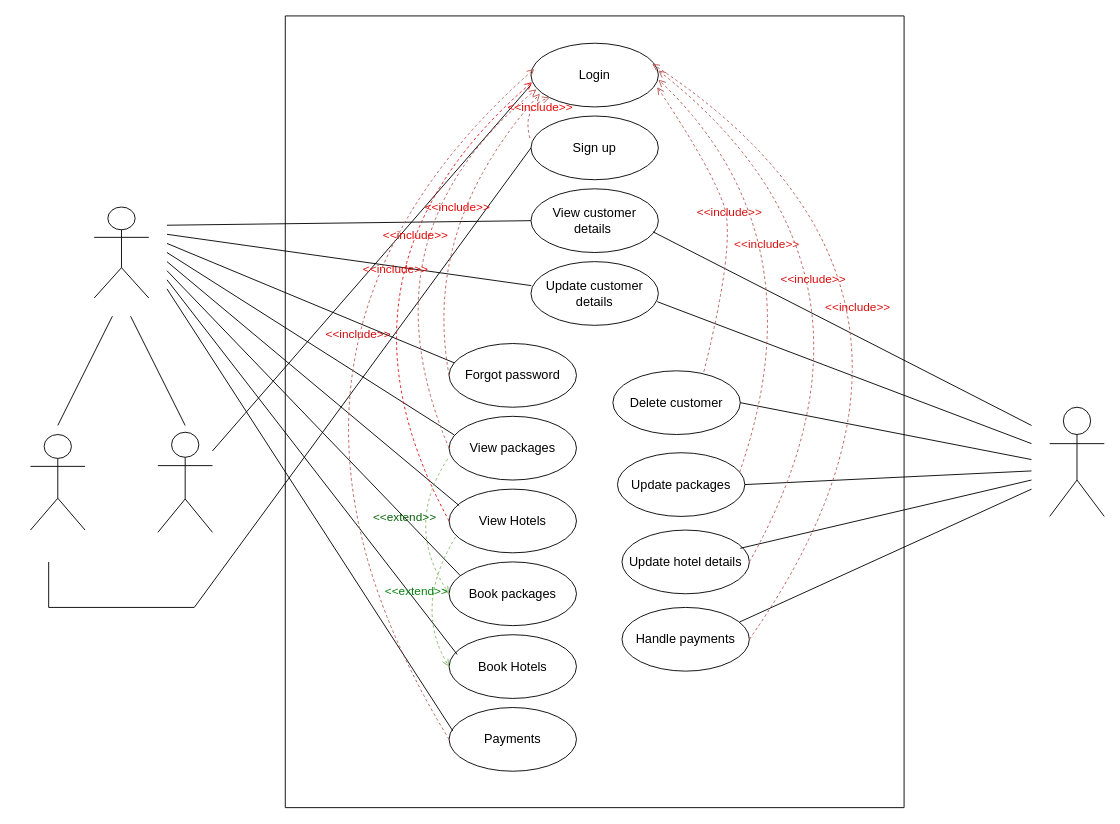
Image size: 1120x824. Some labels were removed from this diagram. Each missing label, with the box of its shape:
Admin: (1049, 406, 1104, 516)
Customer: (93, 206, 149, 298)
Existing Customer: (157, 431, 212, 532)
New Customer: (30, 434, 85, 530)
